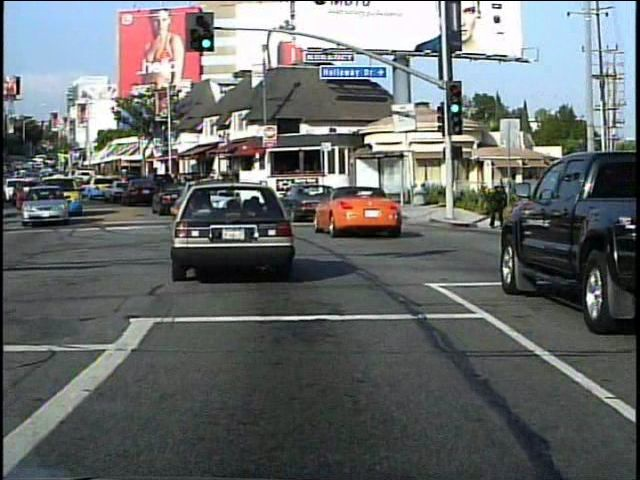person: (569, 186, 593, 247), (487, 182, 508, 230)
